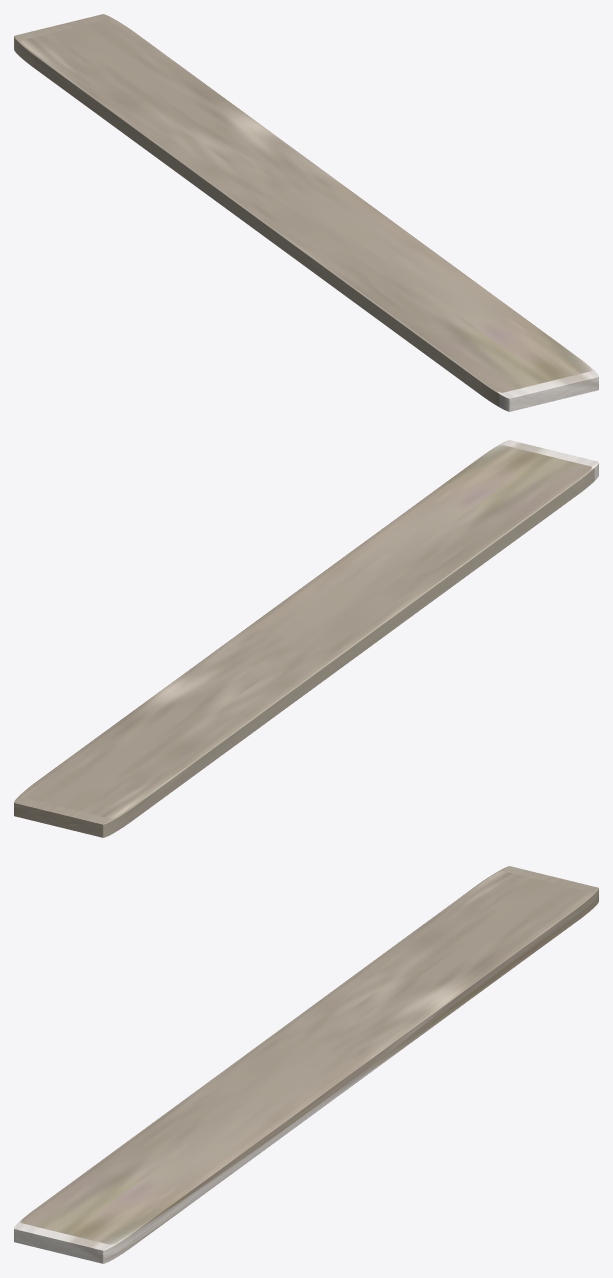
The model's file is shreddedmozz.fbx.
3 renders of one model, top to bottom at view 1: azimuth 30°, elevation 25°; view 2: azimuth 150°, elevation 25°; view 3: azimuth 330°, elevation 25°, orthographic.
Parts seen in each view (by area): view 1: Cube; view 2: Cube; view 3: Cube.
Boxes of the visible parts, box(x1,y1,x2,y2) form: Cube: box(14, 14, 598, 411); Cube: box(14, 440, 598, 837); Cube: box(14, 866, 598, 1263).
Size of the model in its own units: 202 by 29.38 by 1751.
